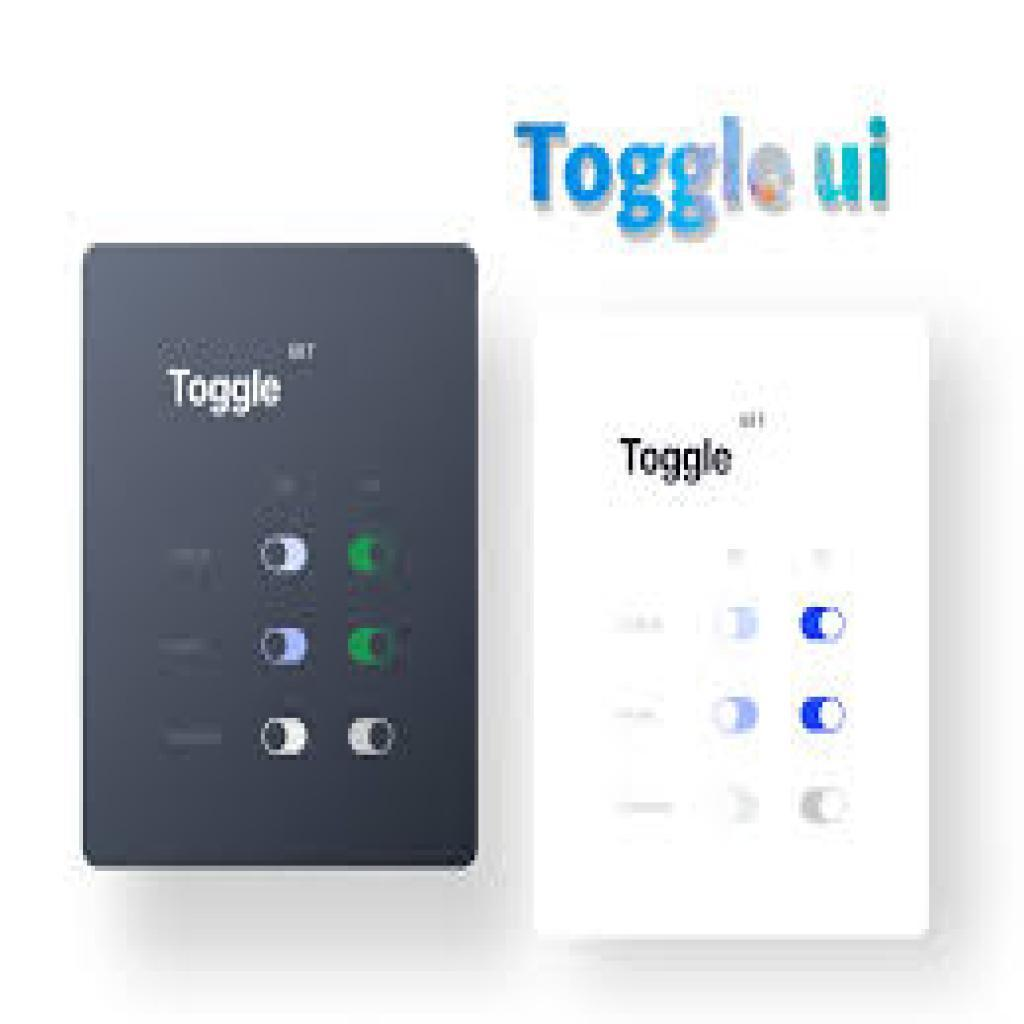label: (161, 364, 289, 421)
switch: (261, 717, 311, 758), (262, 629, 311, 668), (802, 607, 850, 646), (798, 698, 848, 735), (350, 627, 398, 665), (261, 537, 310, 574), (801, 788, 849, 824), (348, 720, 396, 756), (715, 792, 765, 825), (347, 539, 394, 574), (717, 697, 760, 734), (714, 608, 758, 641)
